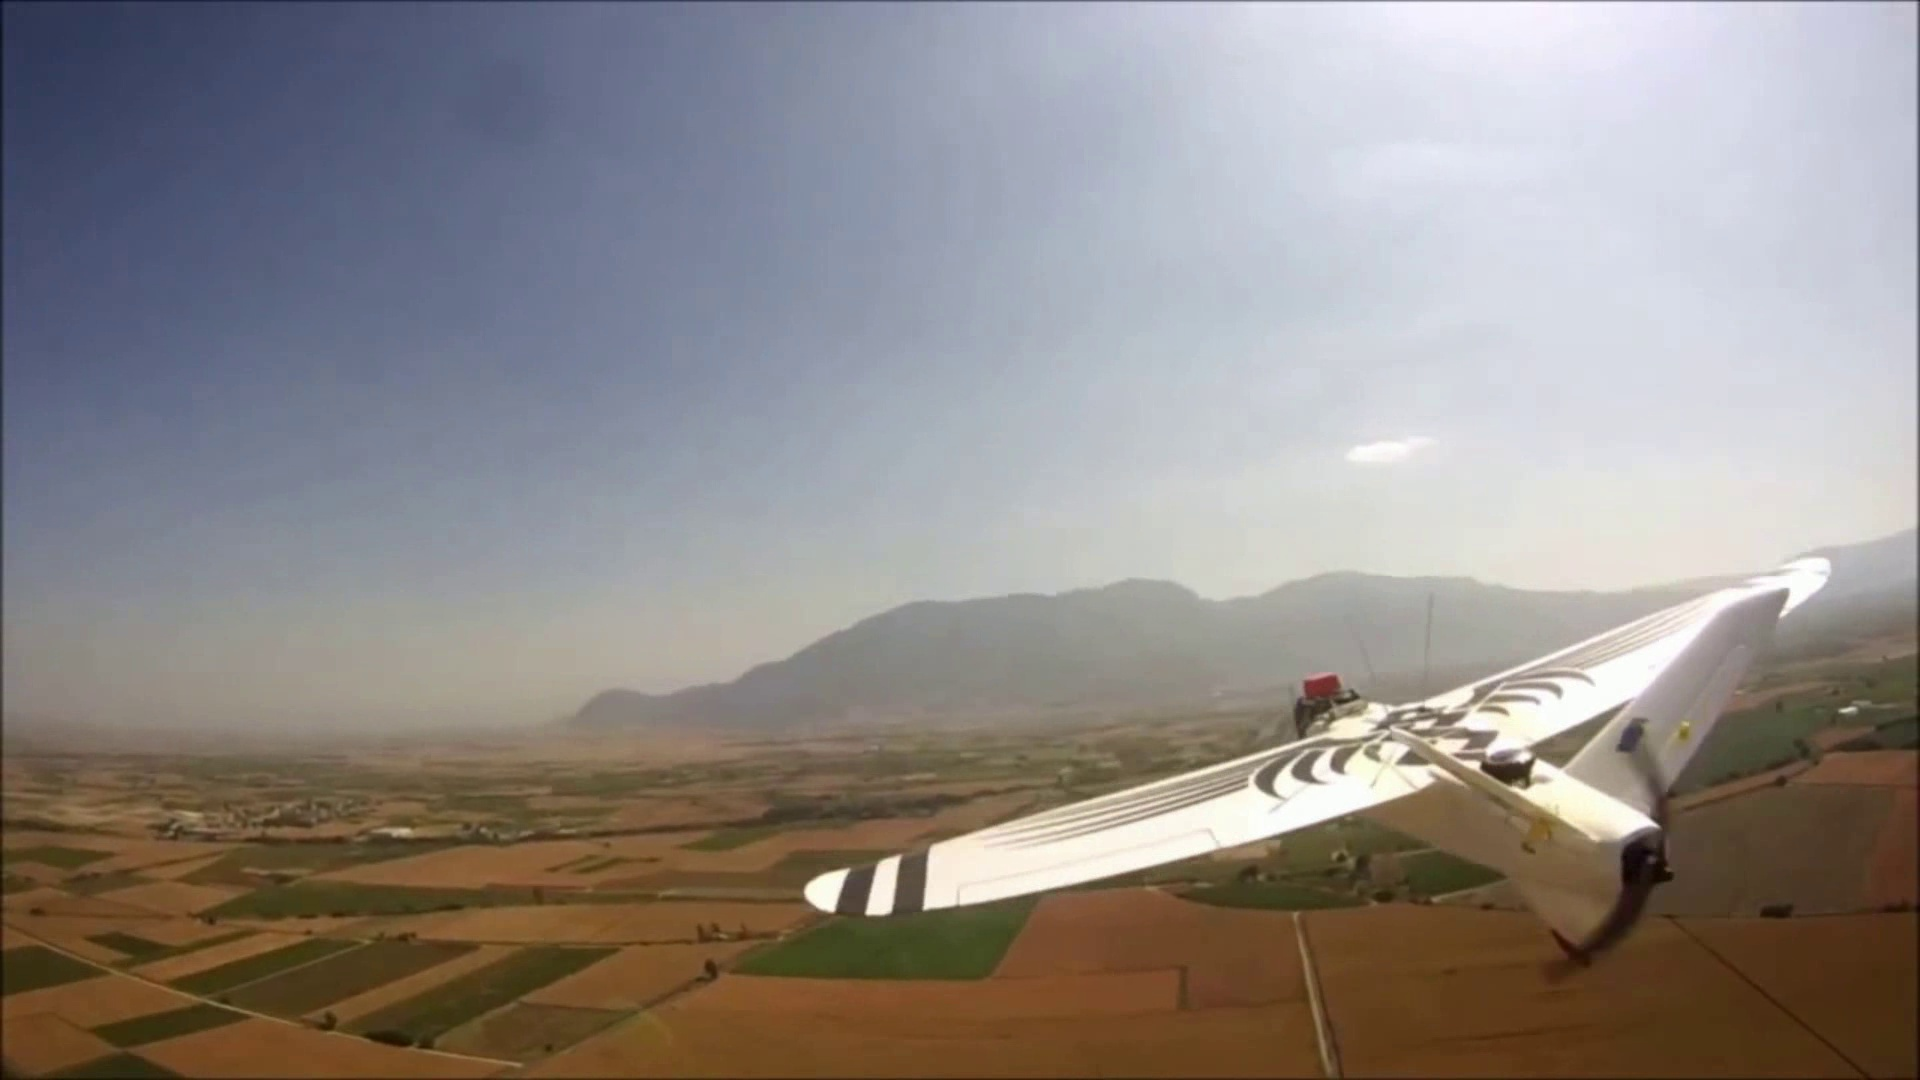airplane: (47, 546, 1909, 1040)
